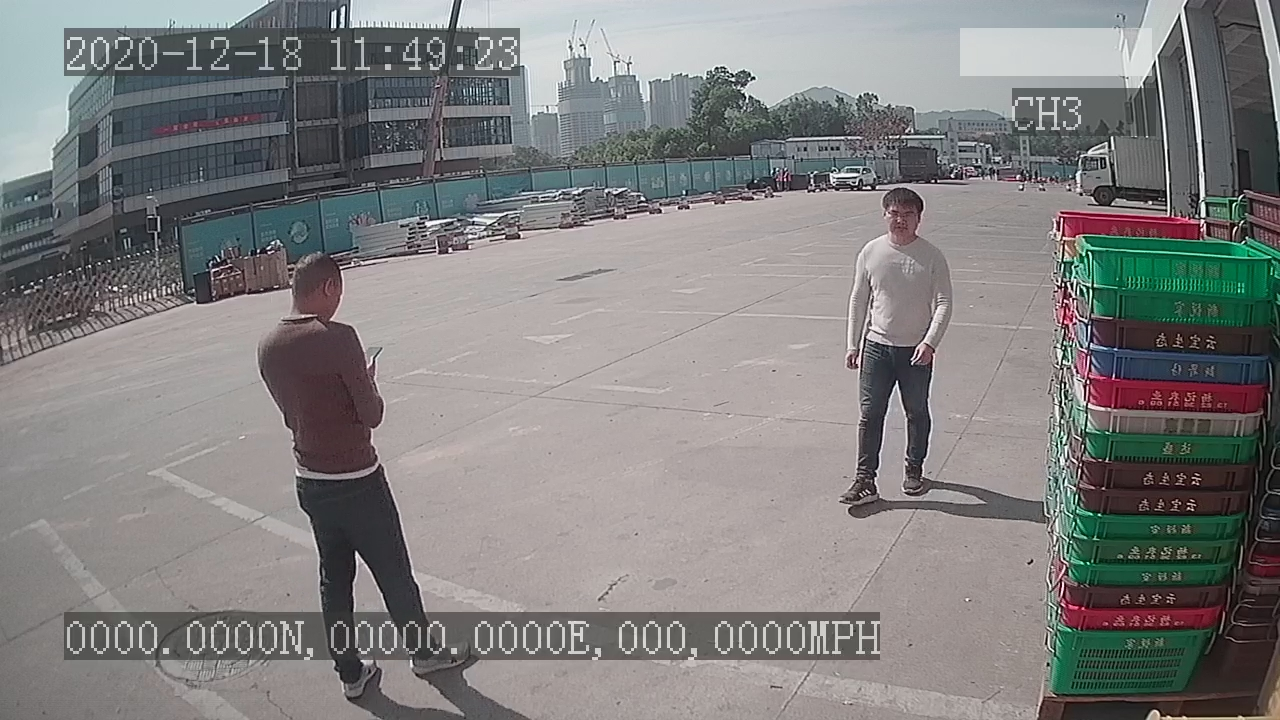person: (838, 181, 958, 511)
